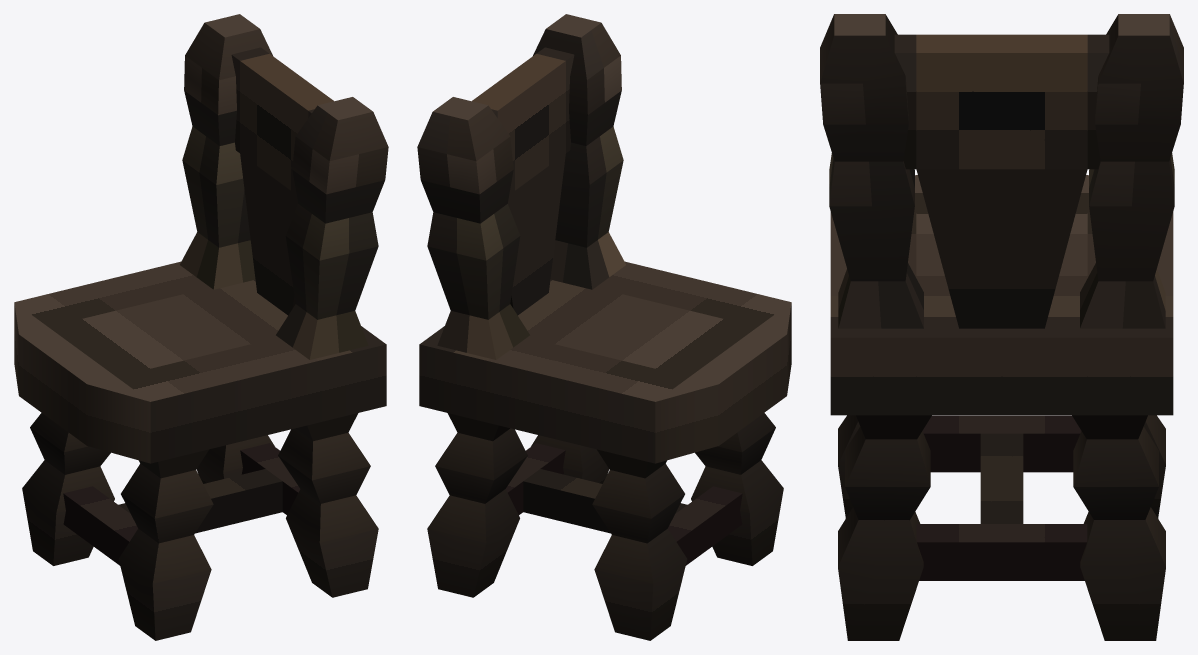
File: ObjMD_Chair_E.FBX
3 views of the same model, side by side, from view 1: azimuth 30°, elevation 25°; view 2: azimuth 150°, elevation 25°; view 3: azimuth 270°, elevation 25° (orthographic). The views are drawn at different scales.
Parts seen in each view (by area): view 1: ObjMD_Chair_E; view 2: ObjMD_Chair_E; view 3: ObjMD_Chair_E.
Boxes of the visible parts, x1,y1,x2,y2 form: ObjMD_Chair_E: [14, 14, 388, 640]; ObjMD_Chair_E: [417, 14, 791, 640]; ObjMD_Chair_E: [820, 14, 1183, 640].
Size of the model in its own units: 56.25 by 97.5 by 53.11.
